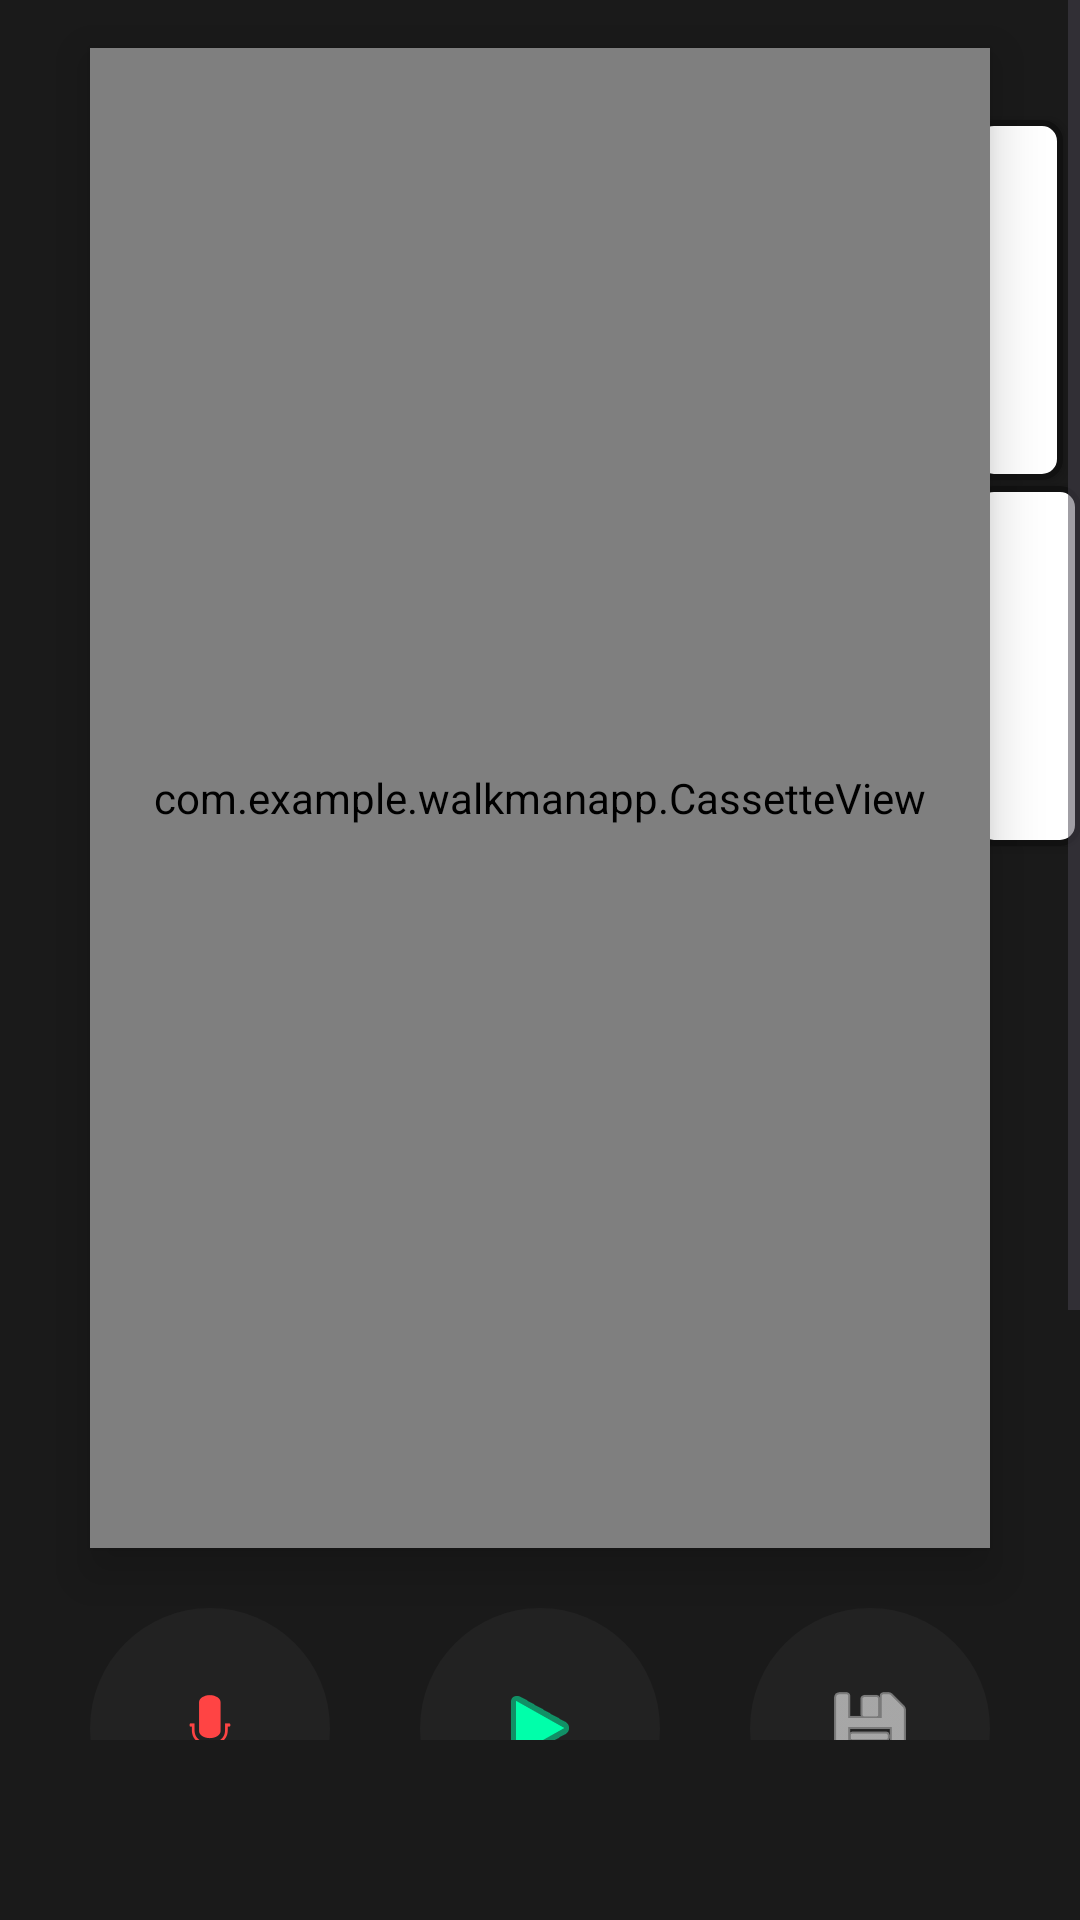

Screen size 1080px×1920px. Icon name, then its center in pixels as (x,y):
play: (540,1718)
save: (870,1716)
speak now: (210,1717)
